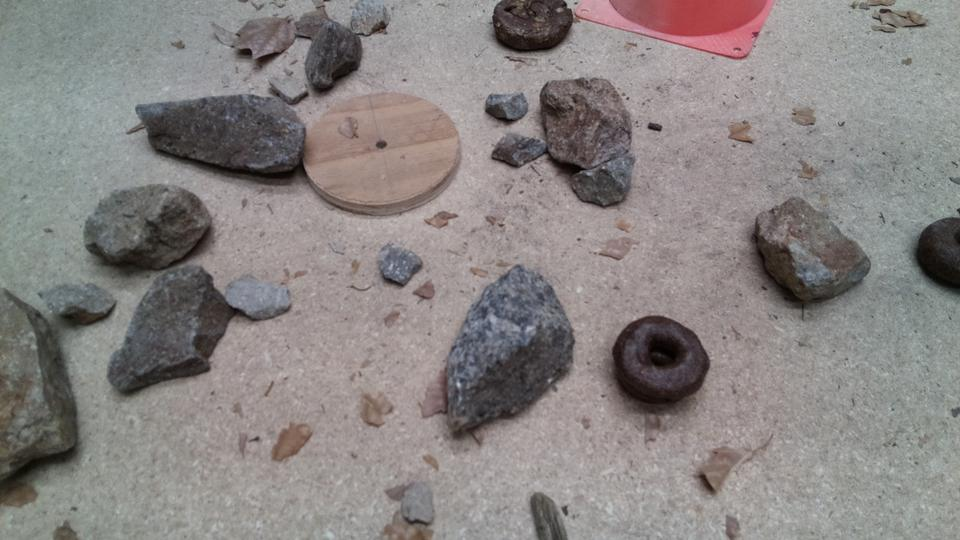poop: (610, 312, 710, 405), (491, 1, 575, 53), (916, 215, 960, 293)
